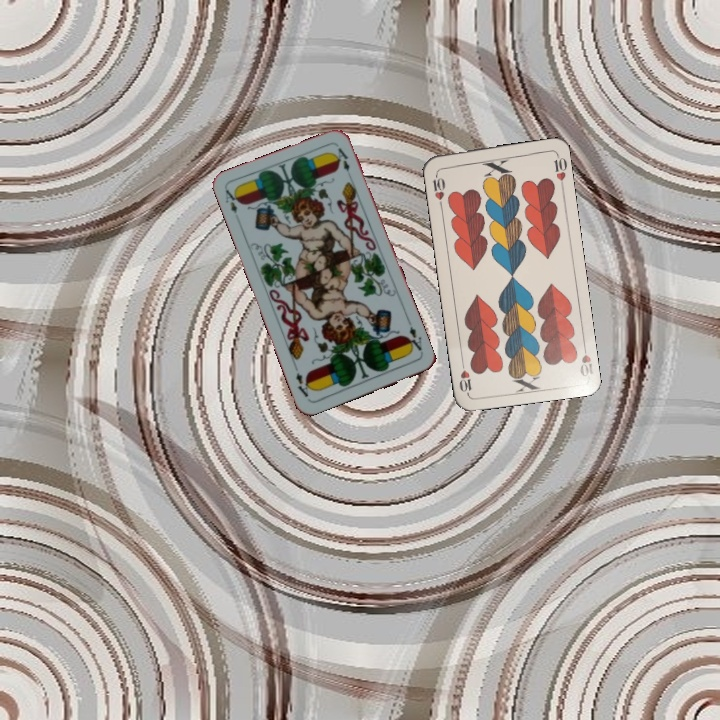EA: (402, 322, 426, 356), (221, 185, 243, 216)
H10: (428, 168, 448, 209), (576, 339, 595, 379)
